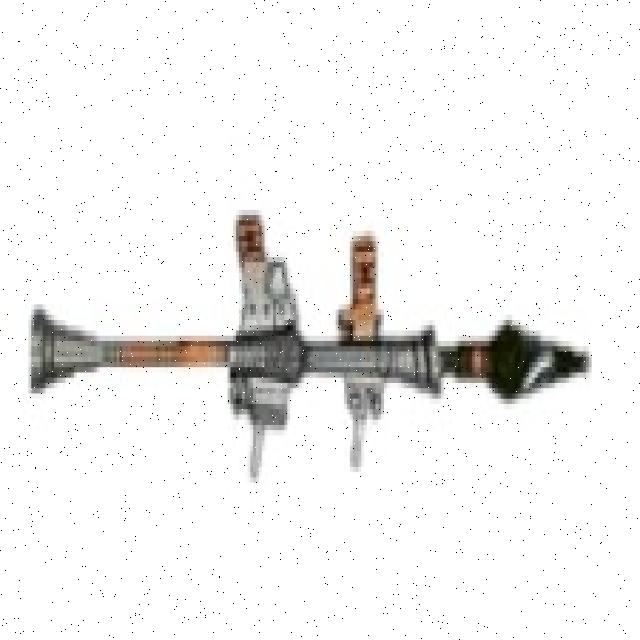bazooka: (20, 201, 597, 492)
